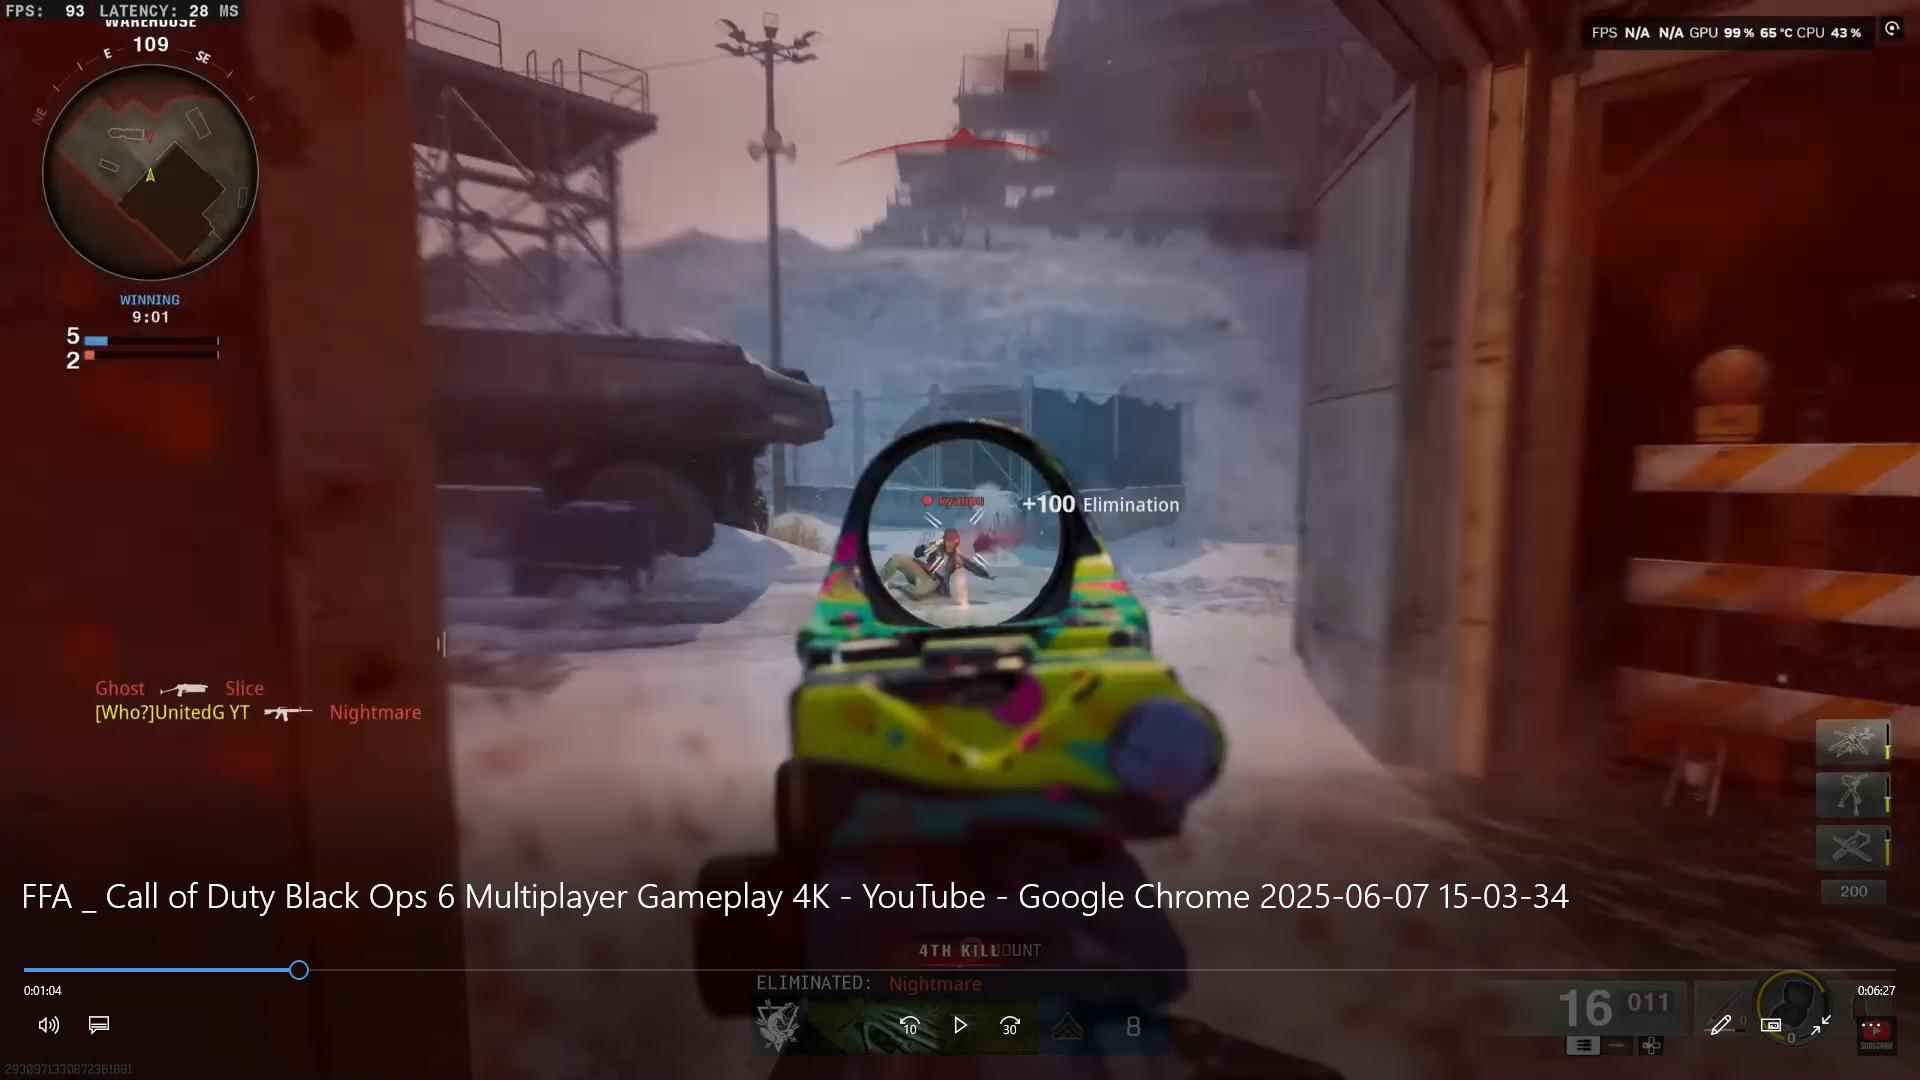Enemy: (894, 516, 993, 612)
